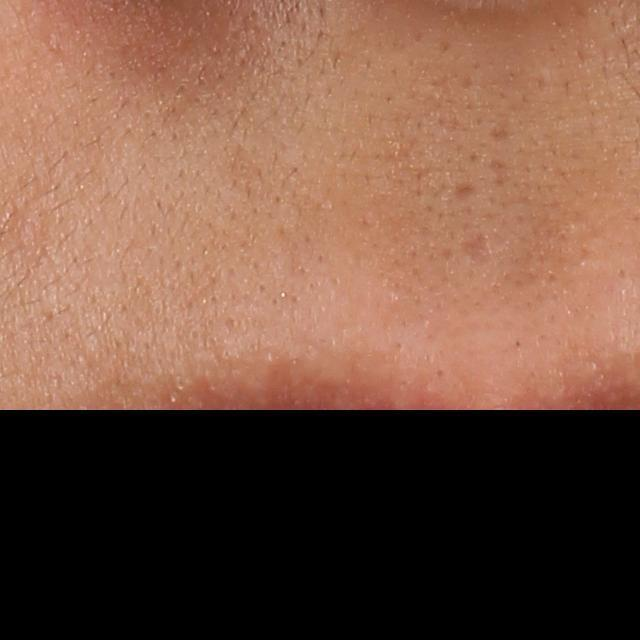atrophic_scar: (457, 237, 491, 265), (486, 115, 515, 145), (486, 152, 510, 187), (446, 180, 476, 199)
